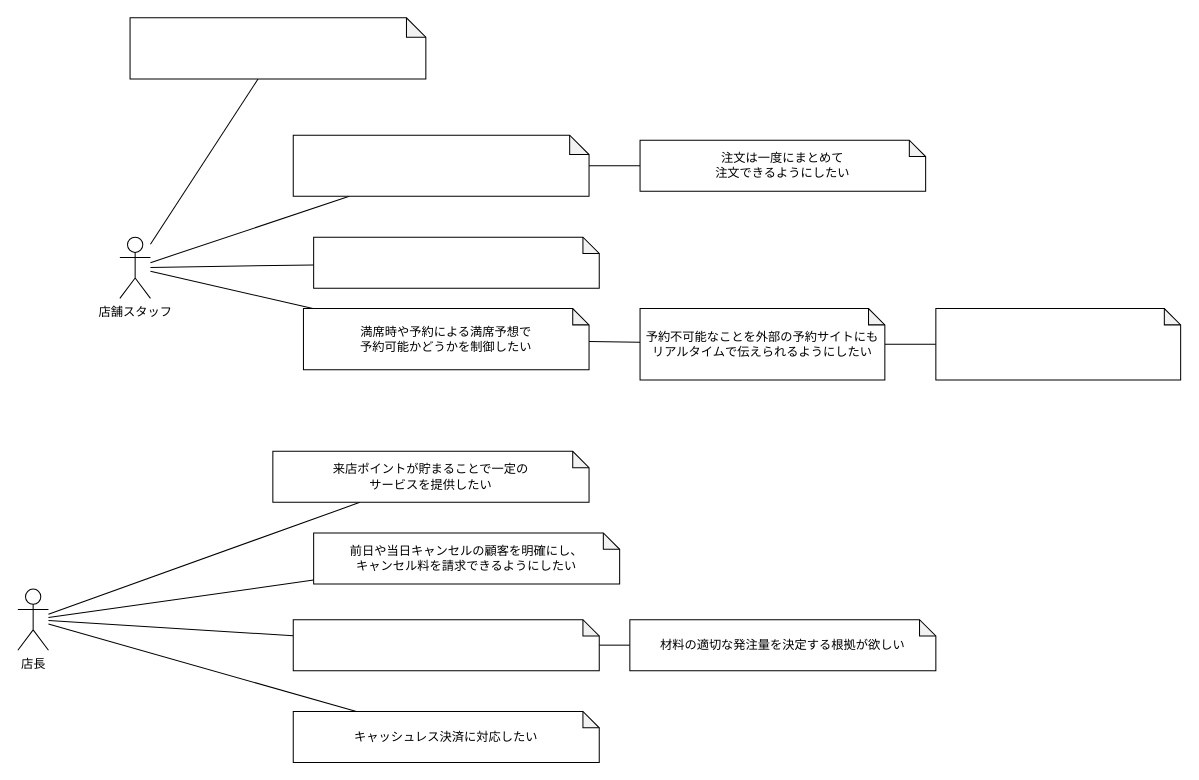
Image size: 1199x780. Some labels were removed from this diagram. The shapes that lost their labels are listed below. From the top down, each one's centre as x and y in pixels, then its label:
pixel 277 48: 材料の在庫状況がリアルタイムでわかるようにし、メニューがの品切れ状態がわかるようにしたい
pixel 440 165: 注文をとるために割かれる時間を減らしたい
pixel 456 262: 注文したメニューの履歴を 確認できるようにしたい
pixel 1058 344: 外部の予約サイトの情報を取り込んで 重複する予約を排除したい
pixel 445 645: 売り上げデータをデジタル化し、 人気のメニューや売り上げの傾向等分析したい
